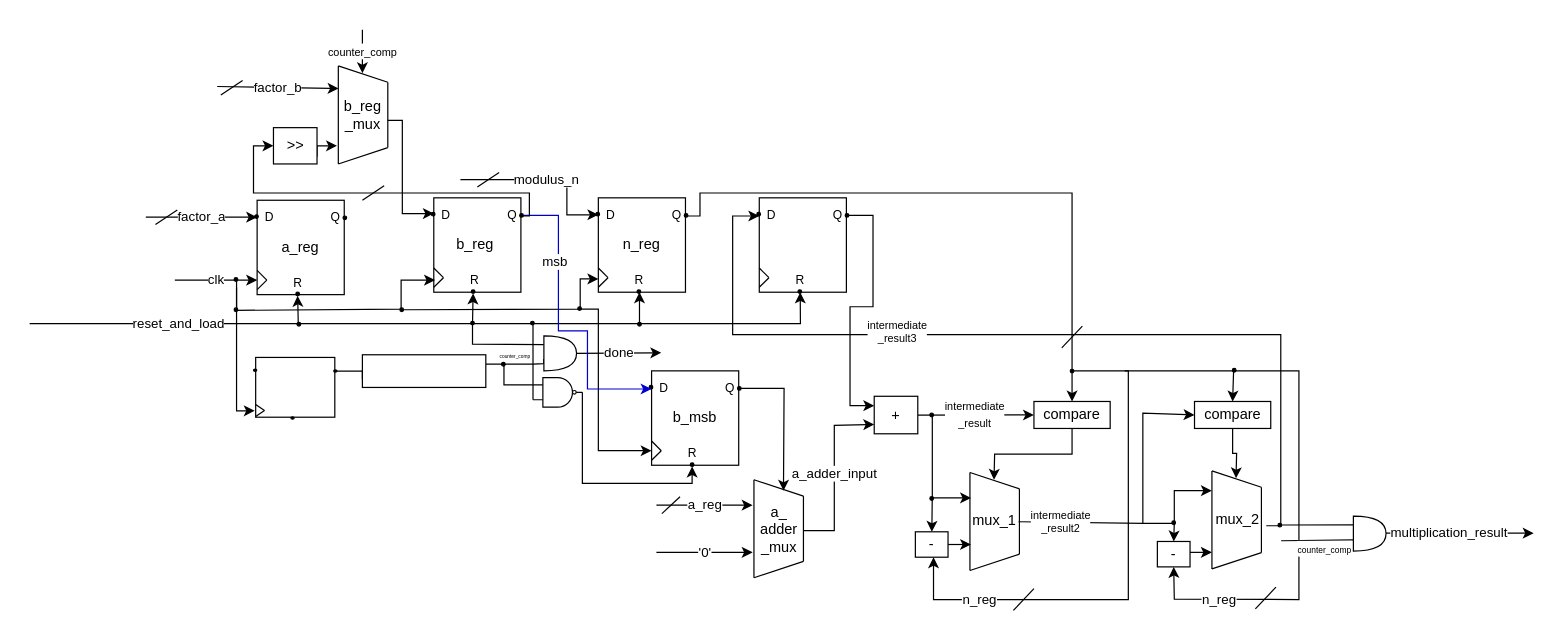
Image size: 1565x633. Some labels were removed from this diagram. Here are the shapes that lost their labels. From the top down, the box of each, then its label:
(758, 197, 846, 292): result_reg
(254, 356, 335, 417): counter
(361, 354, 486, 387): compare counter => C_block_size
